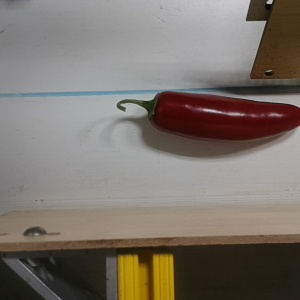Cut Point: (140, 90, 173, 130)
